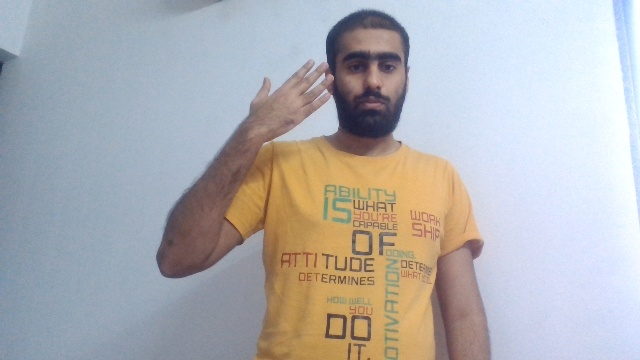paper: (248, 58, 334, 143)
